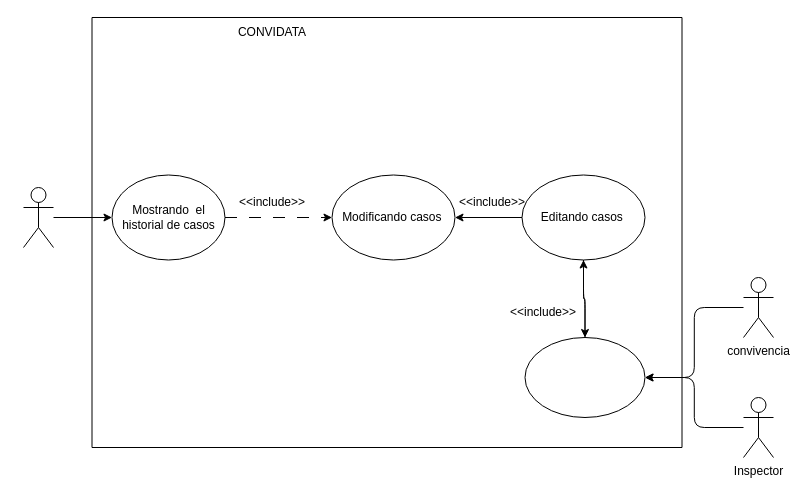
This 807x496 diagram has some shape labels left out. Each missing label, with the centre of its shape:
"Admin" goes at point 38,217.
"Notificando modificación de casos" goes at point 584,377.
